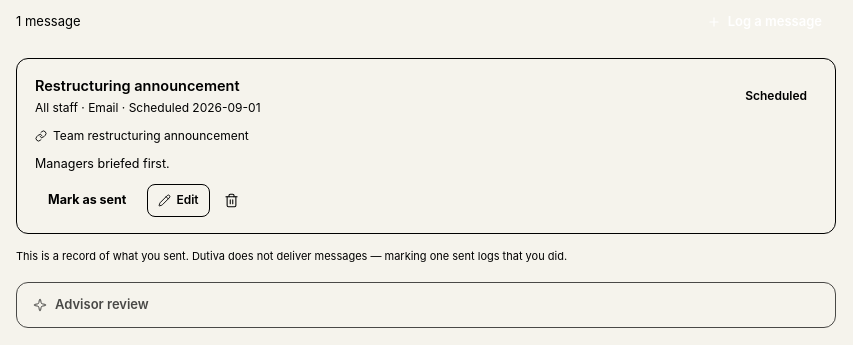
Test: CommunicationsView in production mode › marks a message sent as a record, saying plainly that Dutiva does not send
Expected: the text "Restructuring announcement" is shown, [35, 74, 260, 96]
Expected: the text "Dutiva does not deliver messages — marking one sent logs that you did." is shown, [16, 249, 567, 263]
Click the button "Mark as sent" at x=87, y=200, box [35, 184, 139, 217]
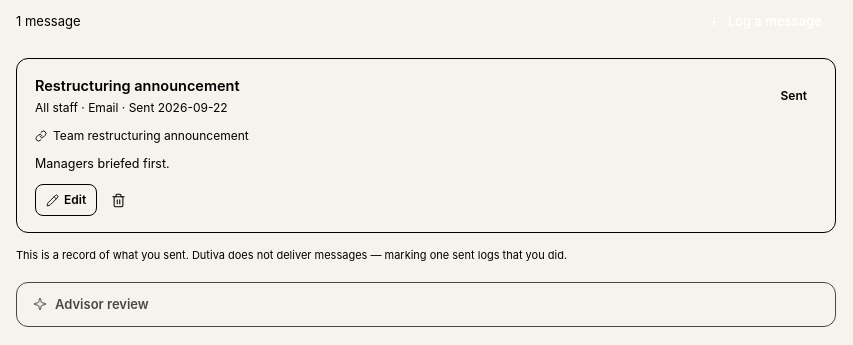
Expected: the text "Sent" is shown, [780, 88, 807, 103]
